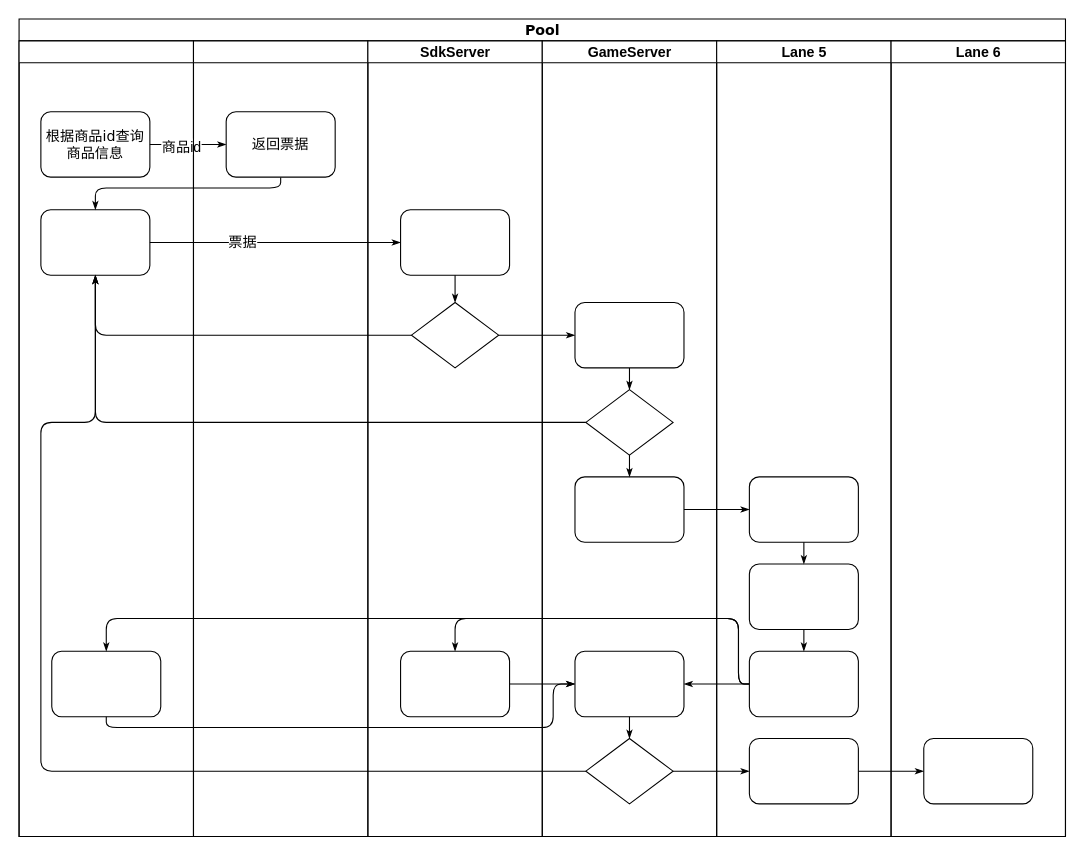
Image size: 1085x856. Some labels were removed from this diagram. Each missing label, with the box of its shape:
AppStore: (192, 40, 368, 837)
发送票据，获取sdk订单id: (40, 209, 150, 275)
客户端: (18, 40, 193, 837)
